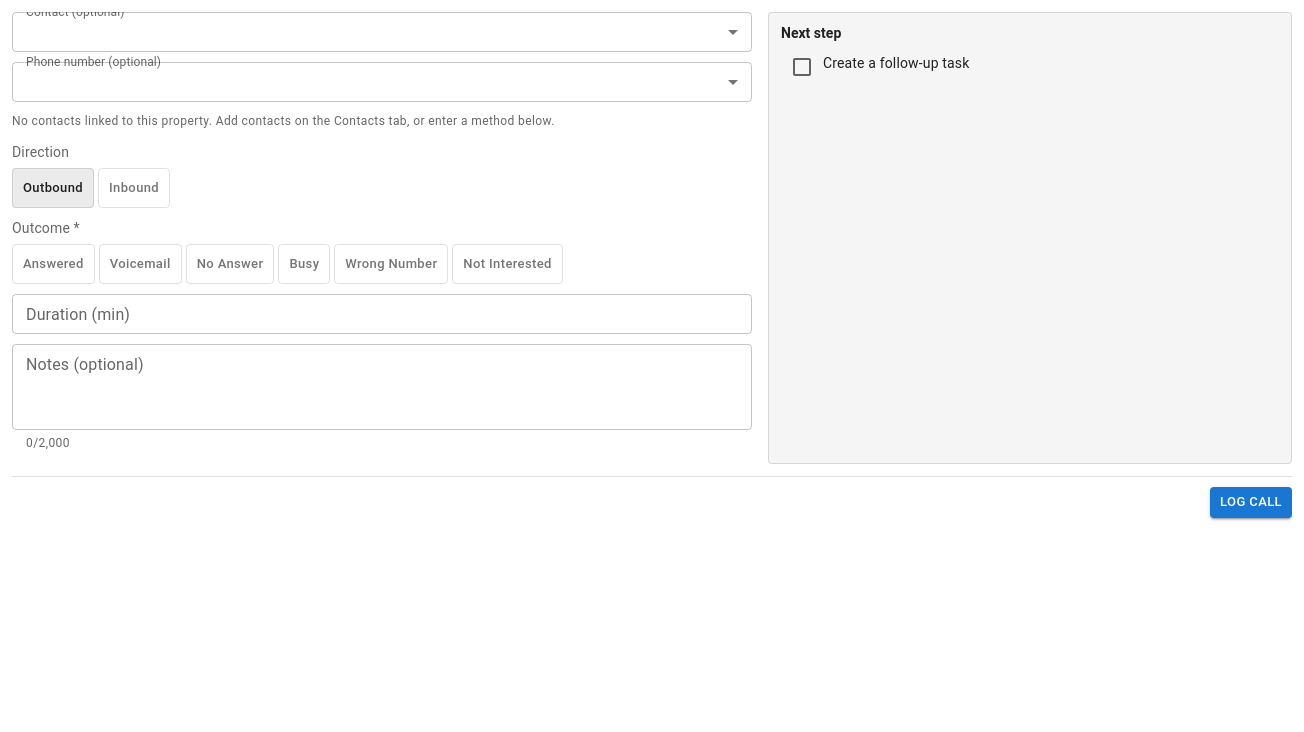
Scenario: LogActivityForm — mode="call" (parity with former LogCallForm) › blocks inbound save when recent mailers fail to load
Click the button with test id "call-direction-inbound" at (134, 188), box top-left (98, 168), bottom-right (170, 208)
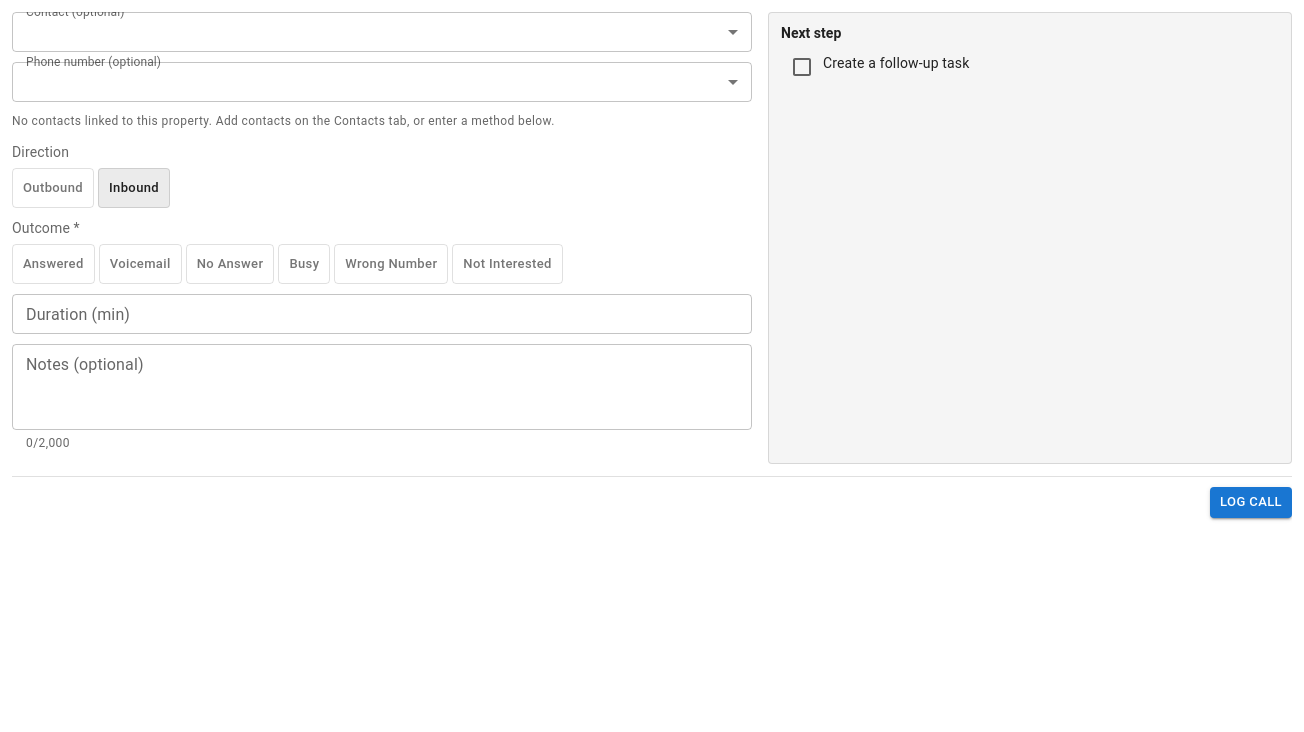
Click the button with test id "call-outcome-answered" at (53, 264), box top-left (12, 244), bottom-right (95, 284)
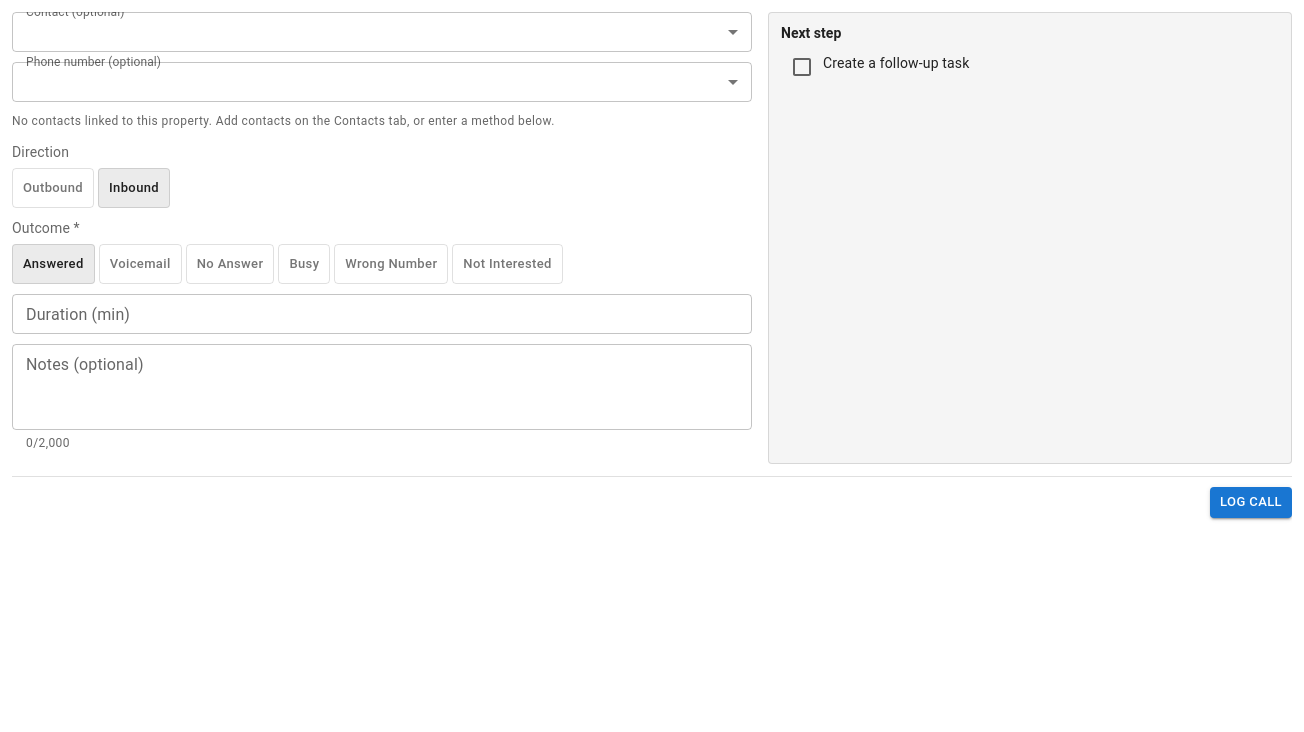
Click the button with test id "call-save-btn" at (1251, 502), box top-left (1210, 487), bottom-right (1292, 518)
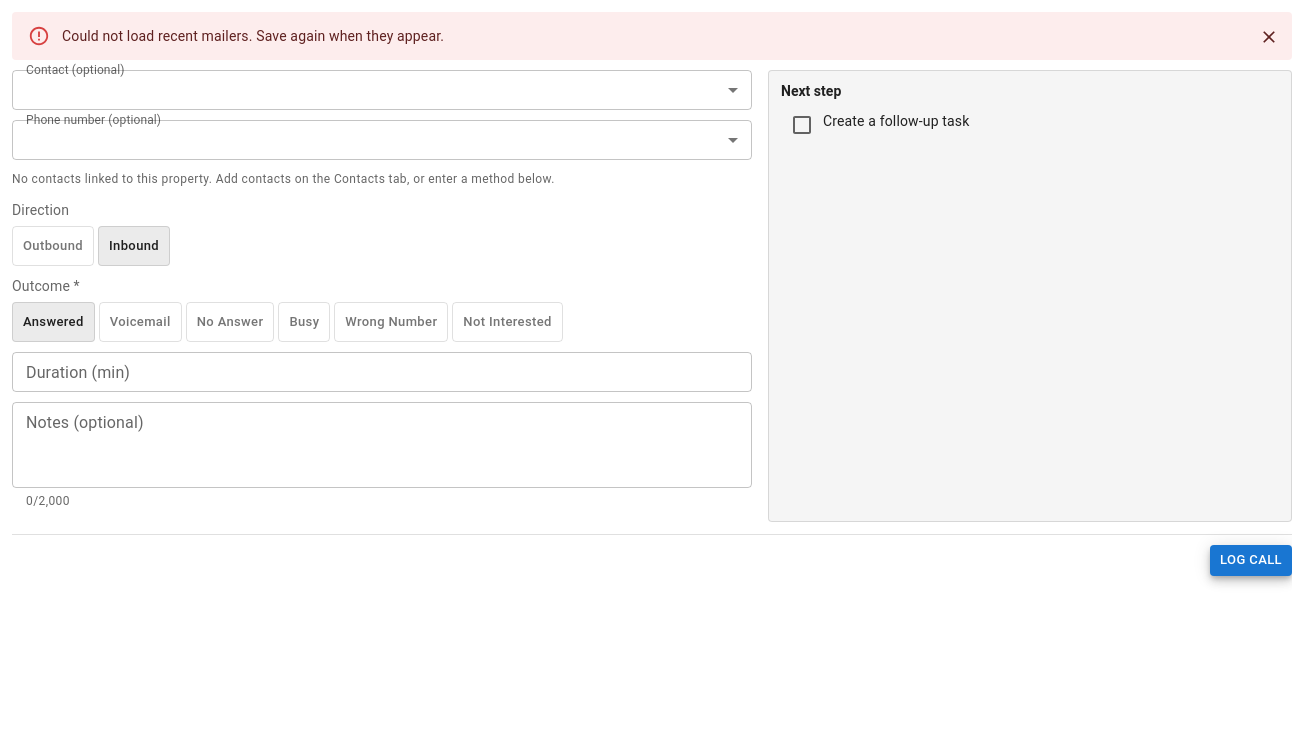
Expected: the message with test id "call-submit-error" shows "Could not load recent mailers", top-left (62, 28), bottom-right (444, 44)
